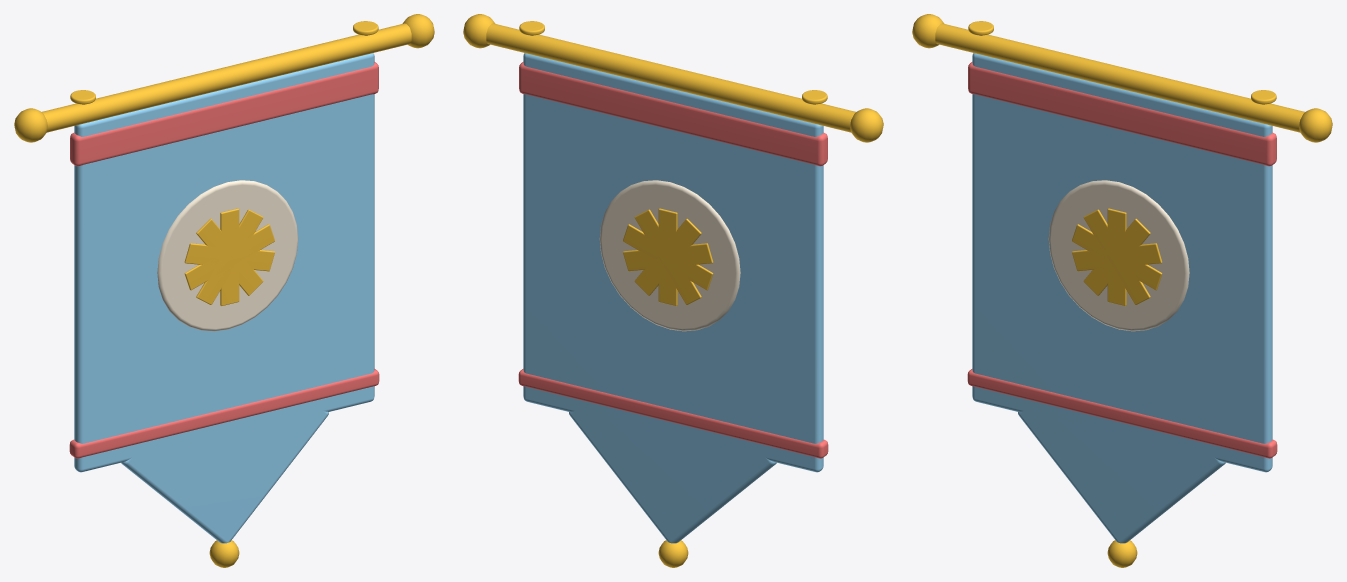
Rendered from BannerBlue.fbx.
3 views of the same model, side by side, from view 1: azimuth 30°, elevation 25°; view 2: azimuth 150°, elevation 25°; view 3: azimuth 330°, elevation 25° (orthographic).
Parts seen in each view (by area): view 1: BannerBlue mesh; view 2: BannerBlue mesh; view 3: BannerBlue mesh.
Part boxes in pixels (x1,y1,x2,y2): BannerBlue mesh: [14, 14, 434, 567]; BannerBlue mesh: [463, 14, 883, 567]; BannerBlue mesh: [912, 14, 1332, 567].
Bounding box in the file's own units: 1.12 × 1.3 × 0.08.
